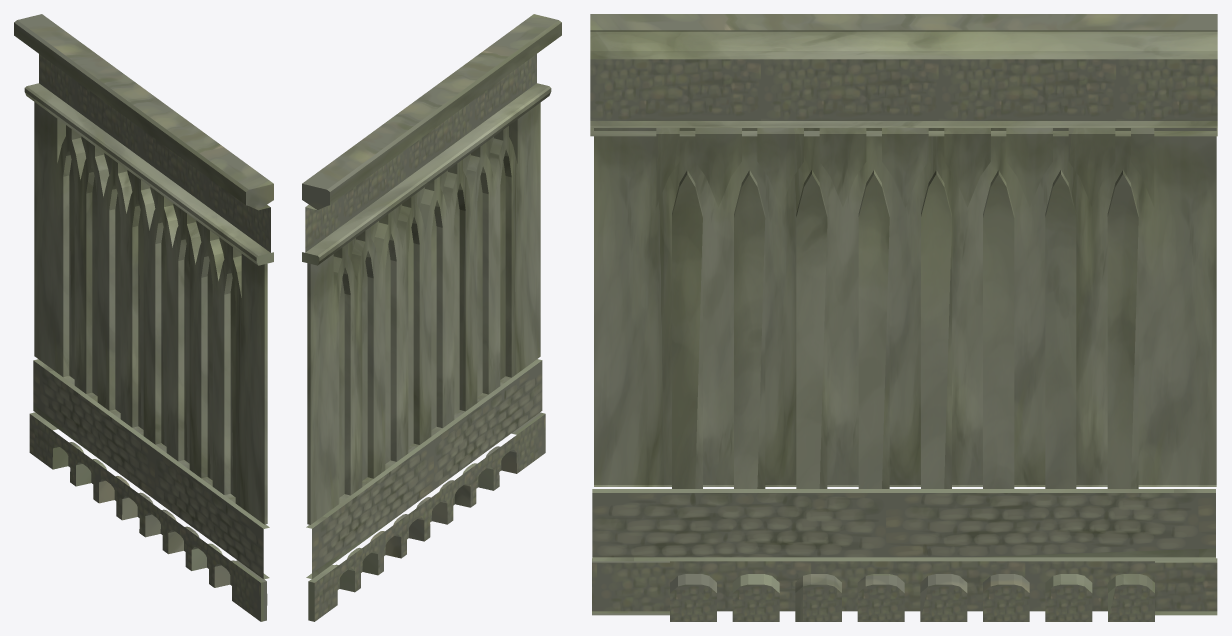
Rendered from decorative_wall_1.fbx.
3 views of the same model, side by side, from view 1: azimuth 30°, elevation 25°; view 2: azimuth 150°, elevation 25°; view 3: azimuth 270°, elevation 25° (orthographic). The views are drawn at different scales.
Visible parts, largest first — view 1: decorative_wall_1; view 2: decorative_wall_1; view 3: decorative_wall_1.
Boxes of the visible parts, box(x1,y1,x2,y2) form: decorative_wall_1: box(14, 14, 273, 621); decorative_wall_1: box(302, 14, 561, 621); decorative_wall_1: box(590, 14, 1217, 621).
Size of the model in its own units: 1001 by 13375 by 12900.
